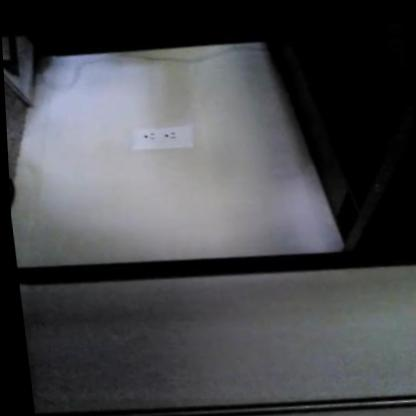OUTLET: (130, 121, 196, 151)
